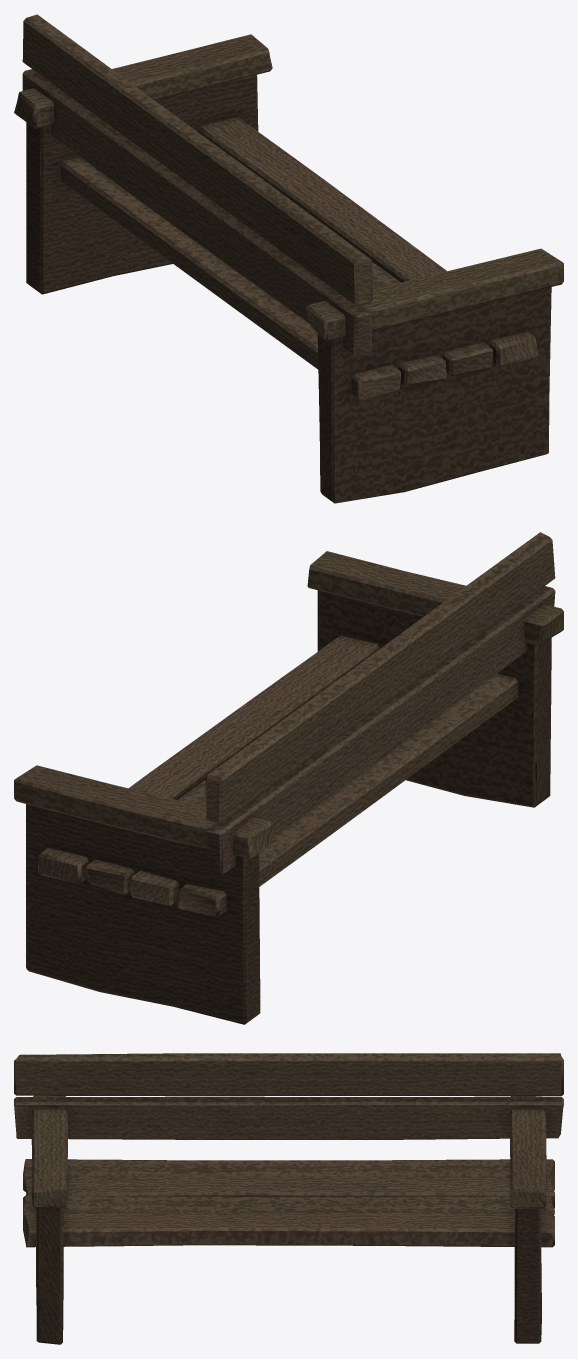
The model's file is pew.glb.
3 views of the same model, one above another, from view 1: azimuth 30°, elevation 25°; view 2: azimuth 150°, elevation 25°; view 3: azimuth 270°, elevation 25° (orthographic). The views are drawn at different scales.
Parts seen in each view (by area): view 1: pew; view 2: pew; view 3: pew.
Part boxes in pixels (bbox=[...]): pew: bbox=[14, 14, 563, 503]; pew: bbox=[14, 532, 563, 1024]; pew: bbox=[14, 1053, 563, 1344].
Bounding box in the file's own units: 0.76 × 0.778 × 1.84.
Materials: 1 (1 with a texture image).
